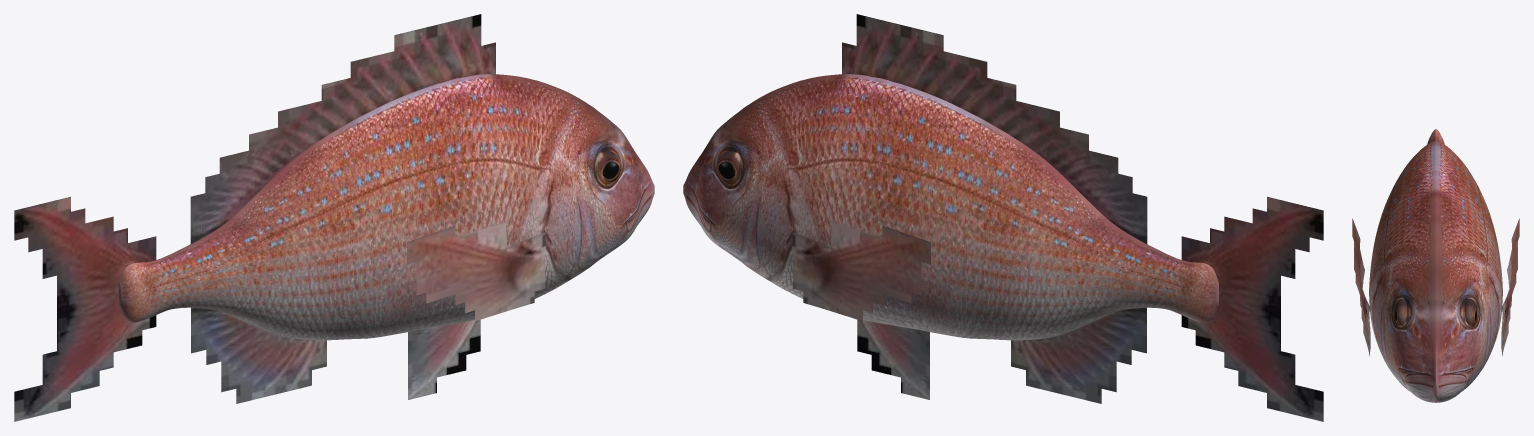
The model's file is real-pagrus_major.glb.
3 views of the same model, side by side, from view 1: azimuth 30°, elevation 25°; view 2: azimuth 150°, elevation 25°; view 3: azimuth 270°, elevation 25° (orthographic). The views are drawn at different scales.
Visible parts, largest first — view 1: pagrus_major; view 2: pagrus_major; view 3: pagrus_major.
Part boxes in pixels (<box>): pagrus_major: <box>14,14,654,421</box>; pagrus_major: <box>683,14,1323,421</box>; pagrus_major: <box>1352,129,1519,402</box>.
Bounding box in the file's own units: 0.3005 × 0.165 × 0.082.
Materials: 1 (1 with a texture image).
